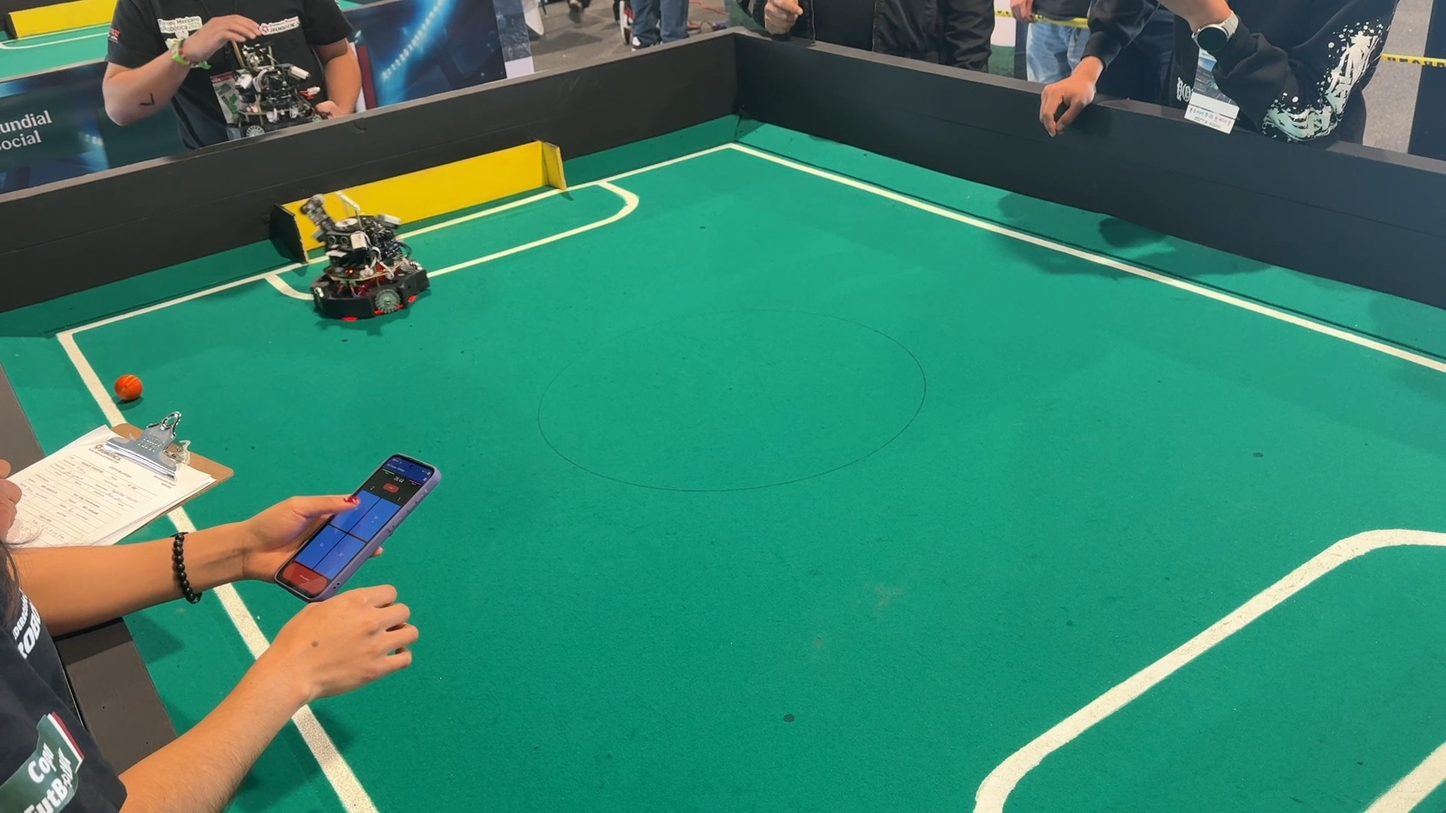Robot: (266, 189, 447, 345), (211, 42, 345, 136)
pelota: (110, 369, 155, 410)
